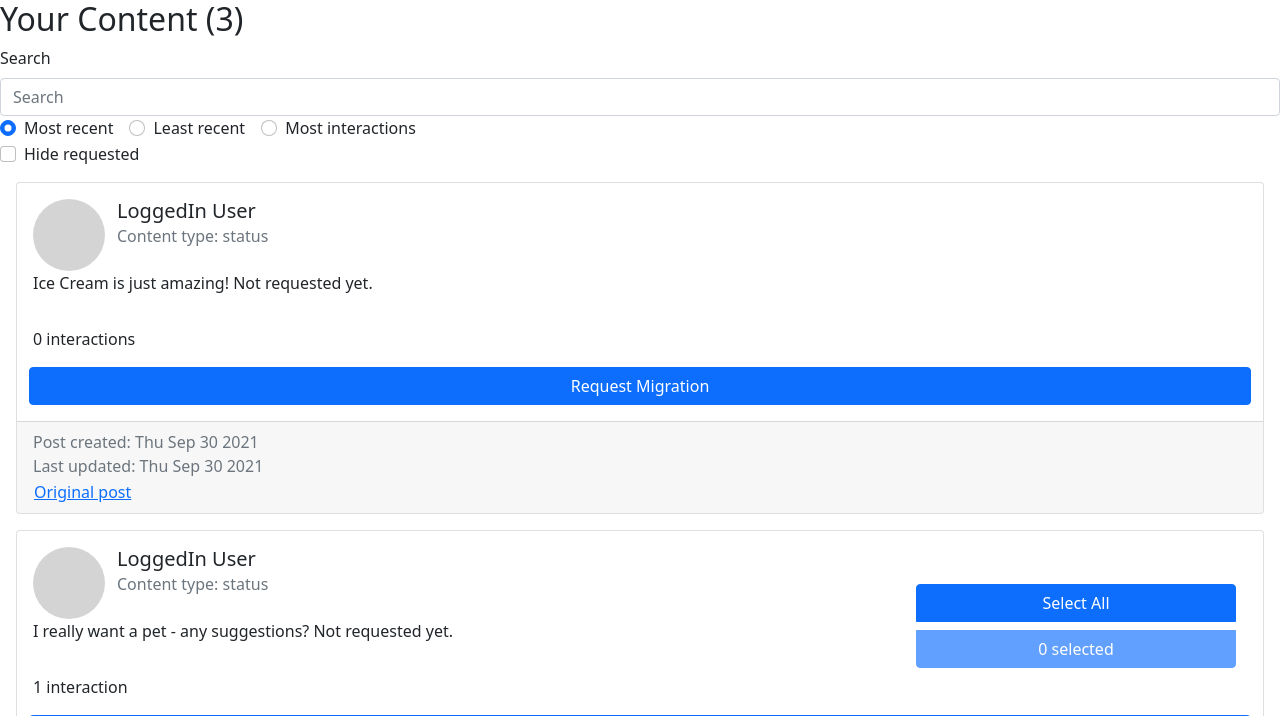
Scenario: User has multiple posts in FB group › Simulating user clicks the Select All button and migrate all posts that have been loaded
This screenshot has width=1280, height=716.
Click the button "Select All" at (1076, 603), box [916, 584, 1236, 622]
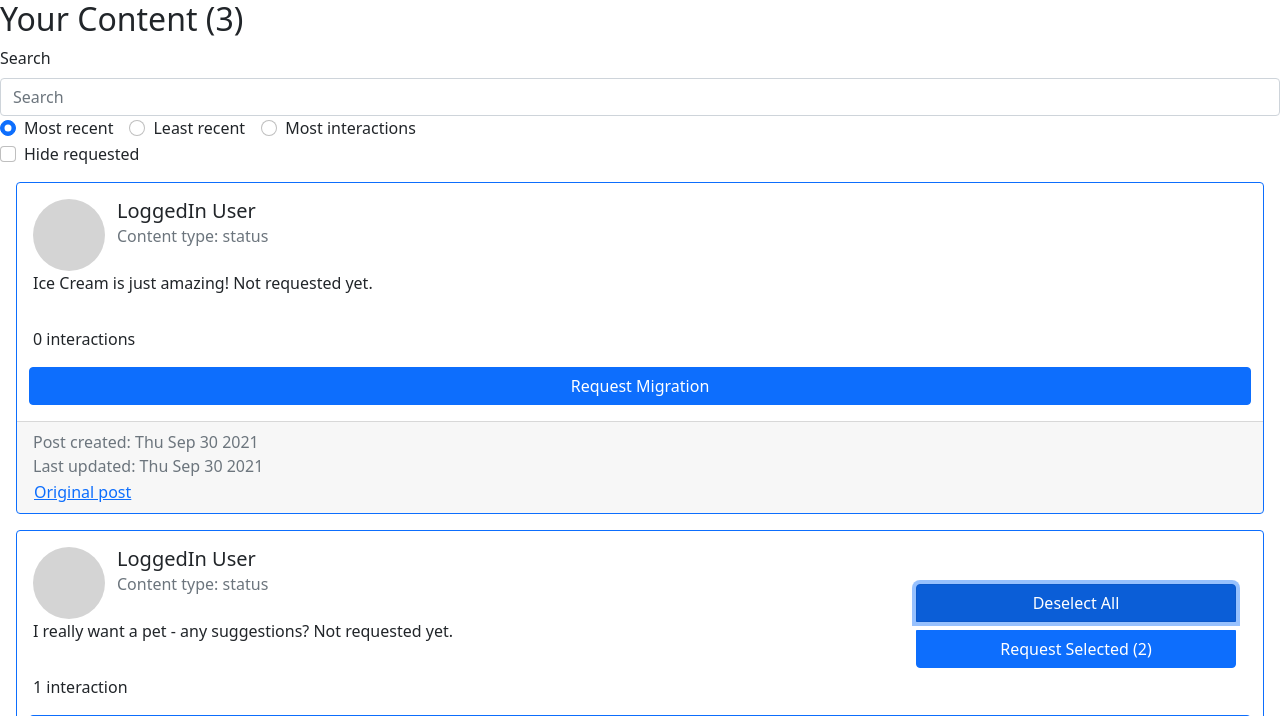
Result: the button "Deselect All" is shown at [916, 584, 1236, 622]
Result: the button "Request Selected (2)" is shown
Click the button "Request Selected (2)" at (1076, 649), box [916, 630, 1236, 668]
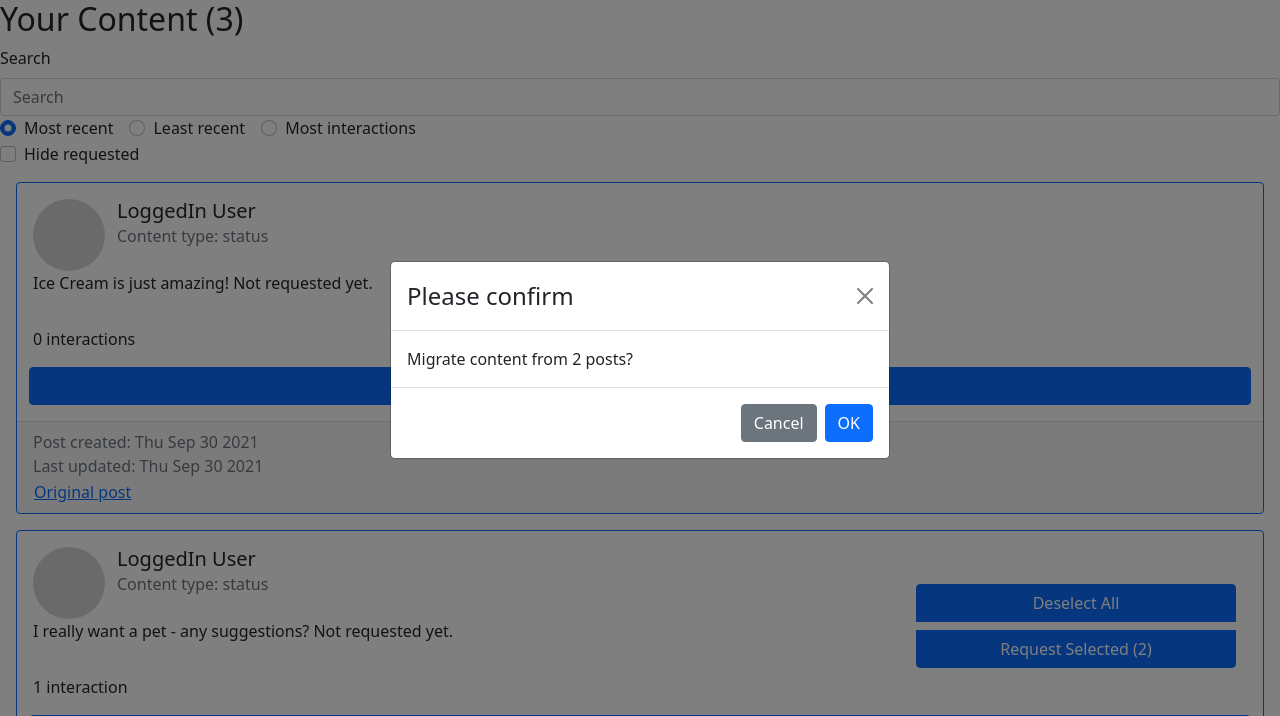
Result: the text "Migrate content from 2 posts?" is shown at [407, 348, 633, 370]
Click the button "OK" at (849, 423), box [825, 404, 873, 442]
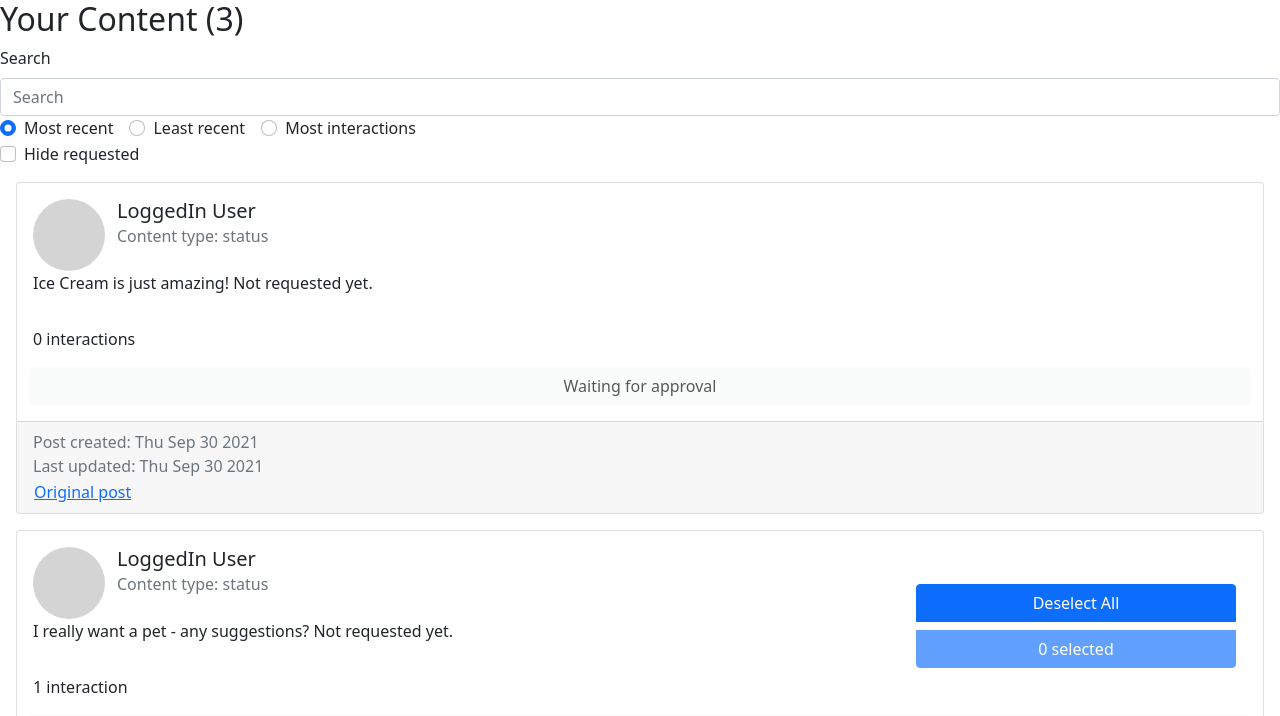
Expected: the button "Request Migration" is not shown
Result: the text "Migrate content from 2 posts?" is gone
